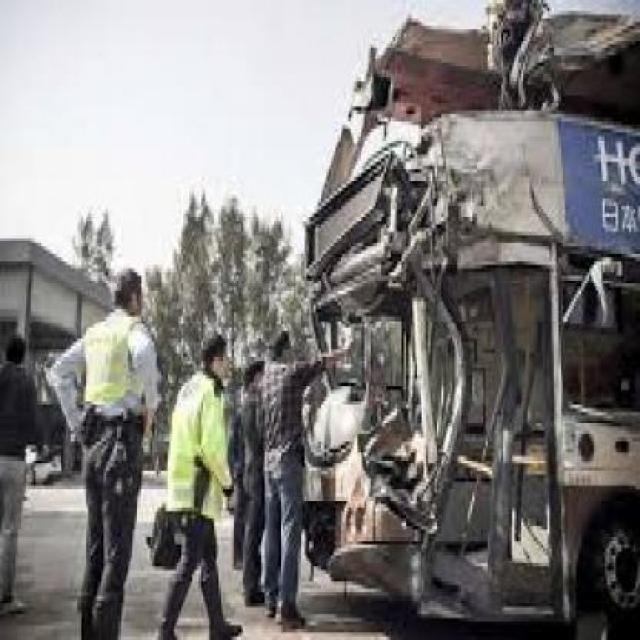accident: (229, 4, 640, 640)
